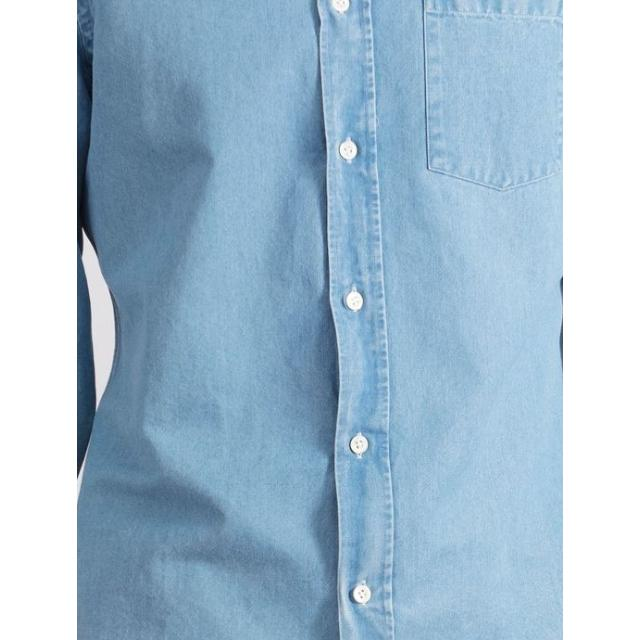denim: (77, 0, 563, 568)
